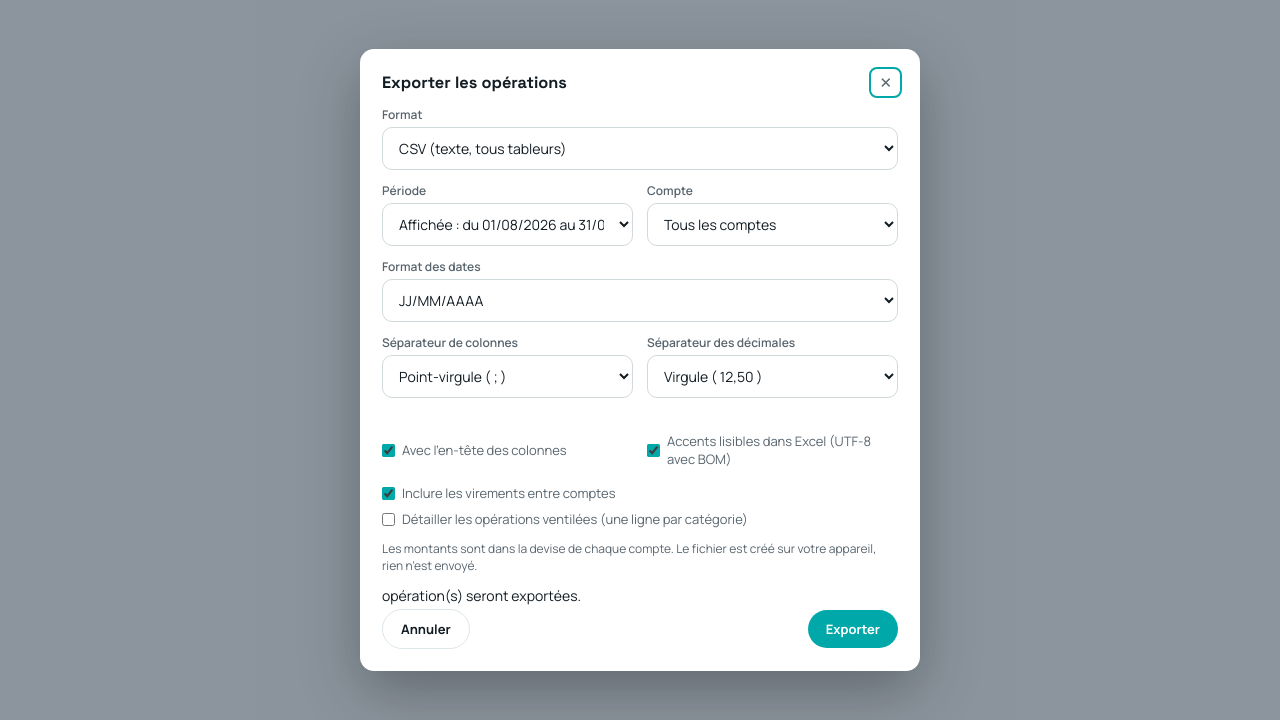
Scenario: fenêtre d’export des opérations › n’offre pas le détail de ventilation pour QIF et OFX, qui n’ont qu’une catégorie
This screenshot has width=1280, height=720.
Expected: the checkbox labelled "Détailler les opérations ventilées (une ligne par catégorie)" is shown, [382,512,395,526]
Select "QIF (Quicken, Money…)" in the dropdown labelled "Format" at (640, 148), box [382,127,898,170]
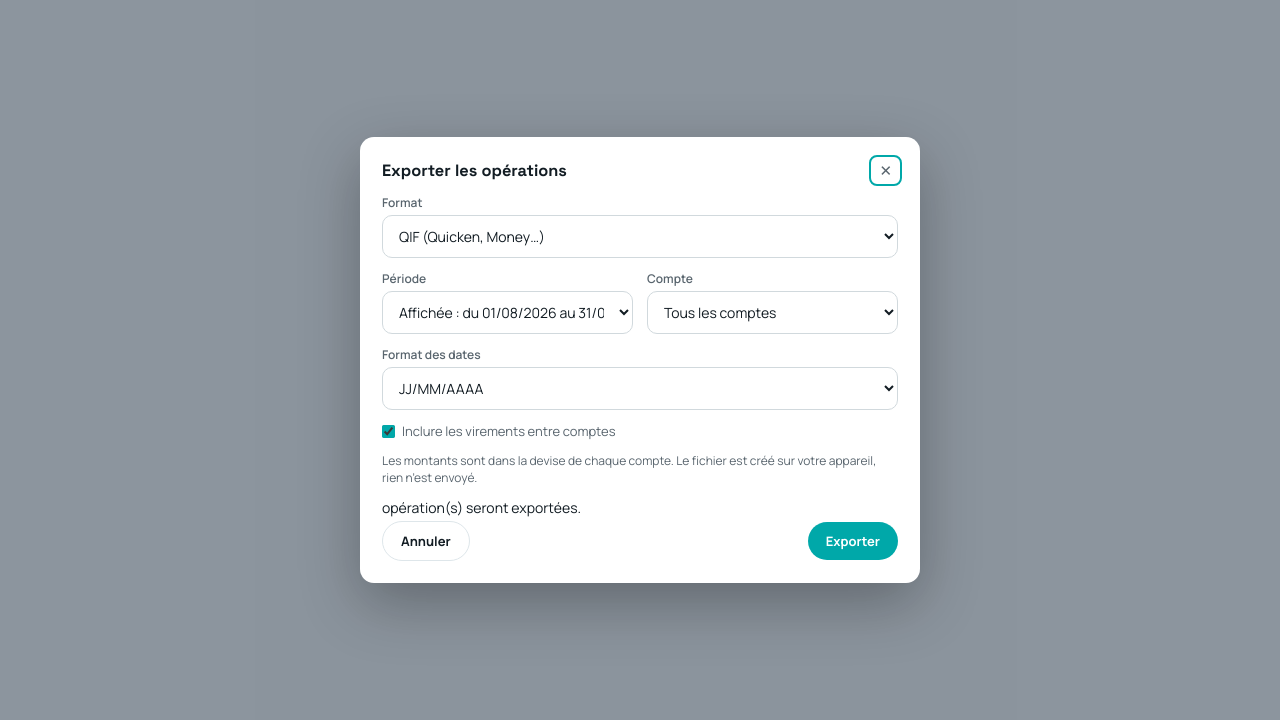
Expected: the label labelled "Détailler les opérations ventilées" is gone
Select "OFX (logiciels bancaires)" in the dropdown labelled "Format" at (640, 236), box [382,215,898,258]
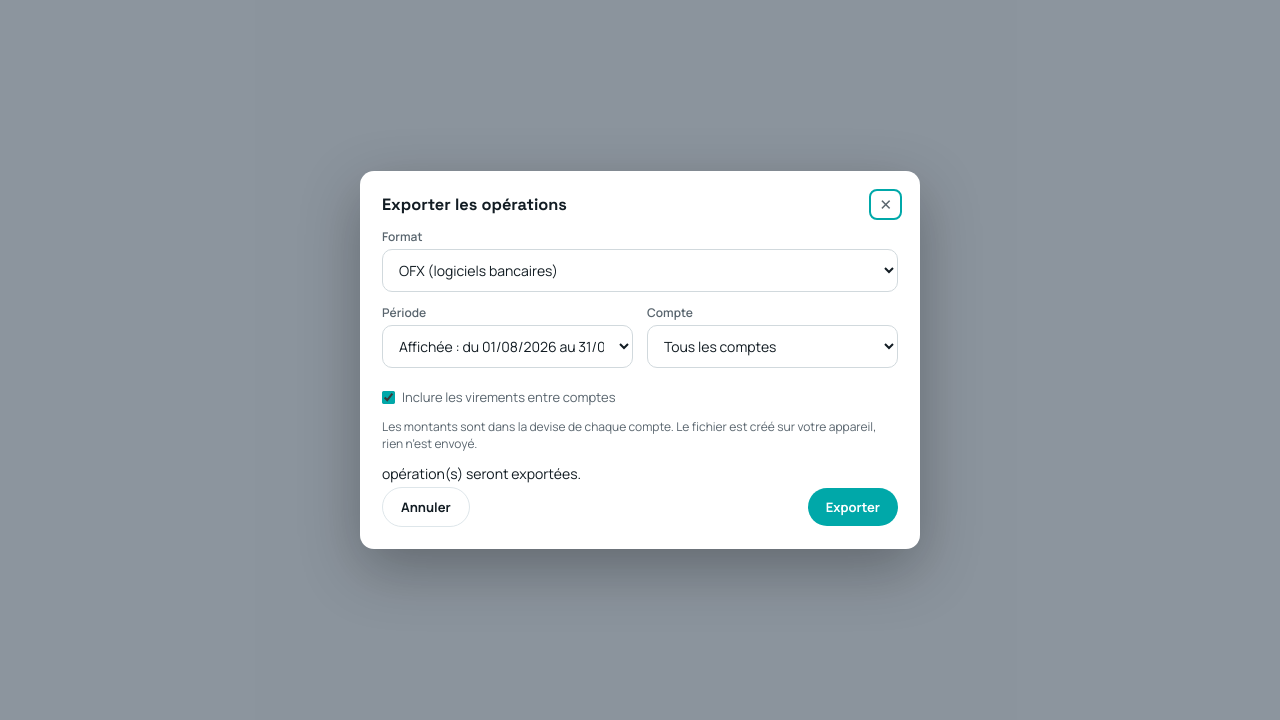
Expected: the label labelled "Format des dates" is gone
